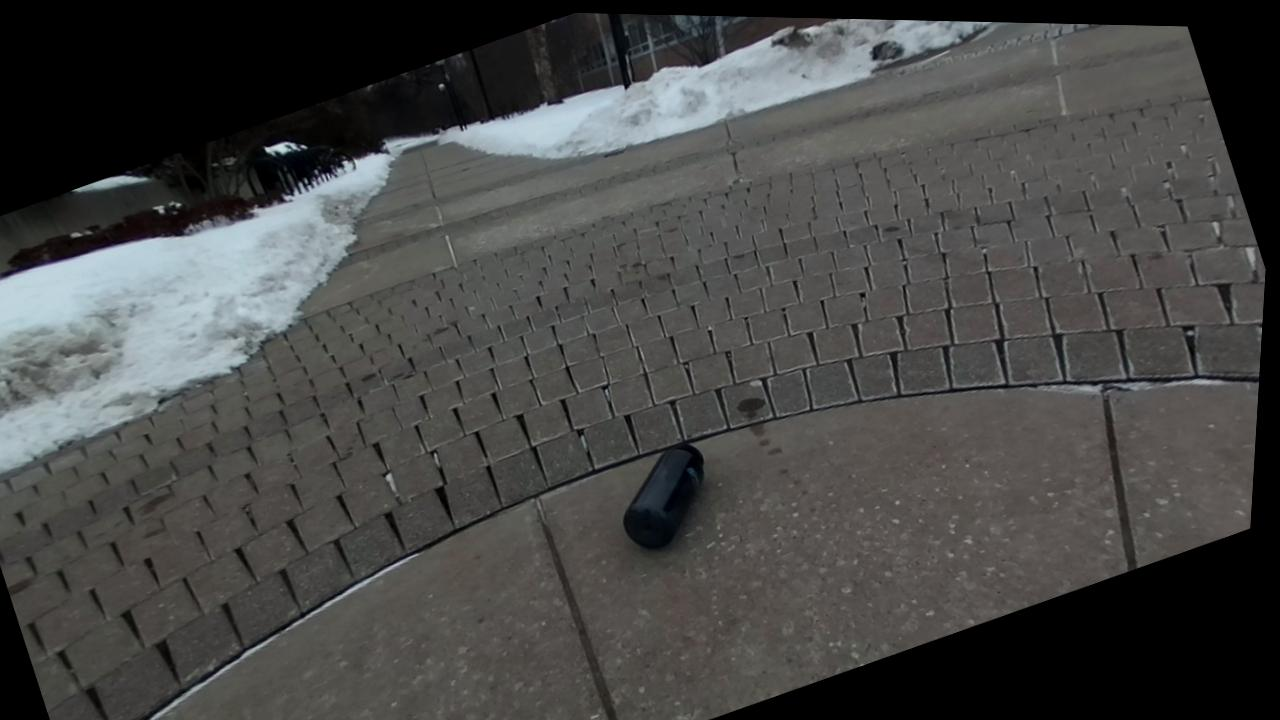bottle: (622, 444, 702, 548)
